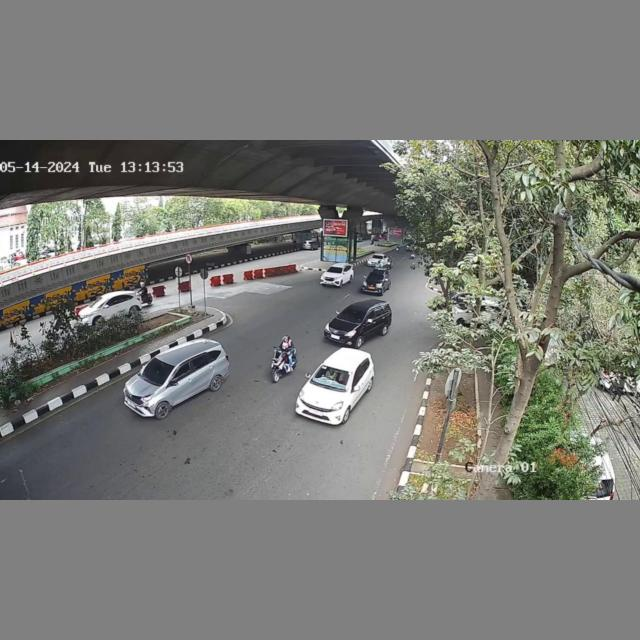windshield: (138, 356, 178, 385), (310, 366, 355, 387), (337, 306, 366, 322)
